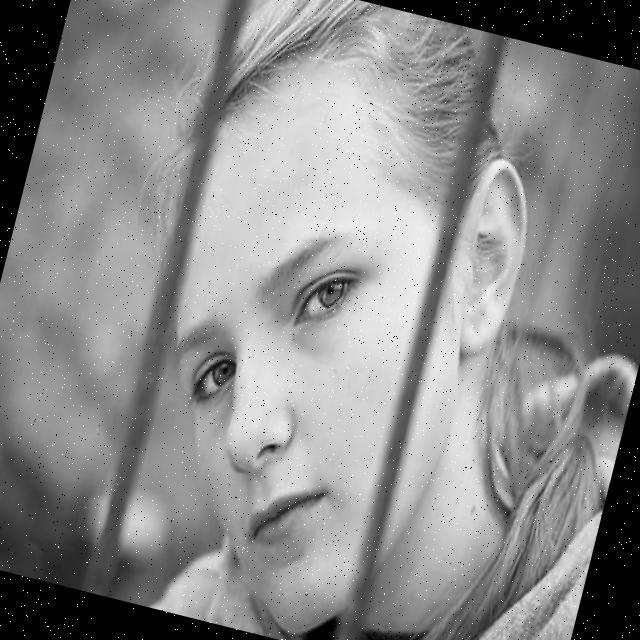Sadness: (105, 57, 448, 639)
